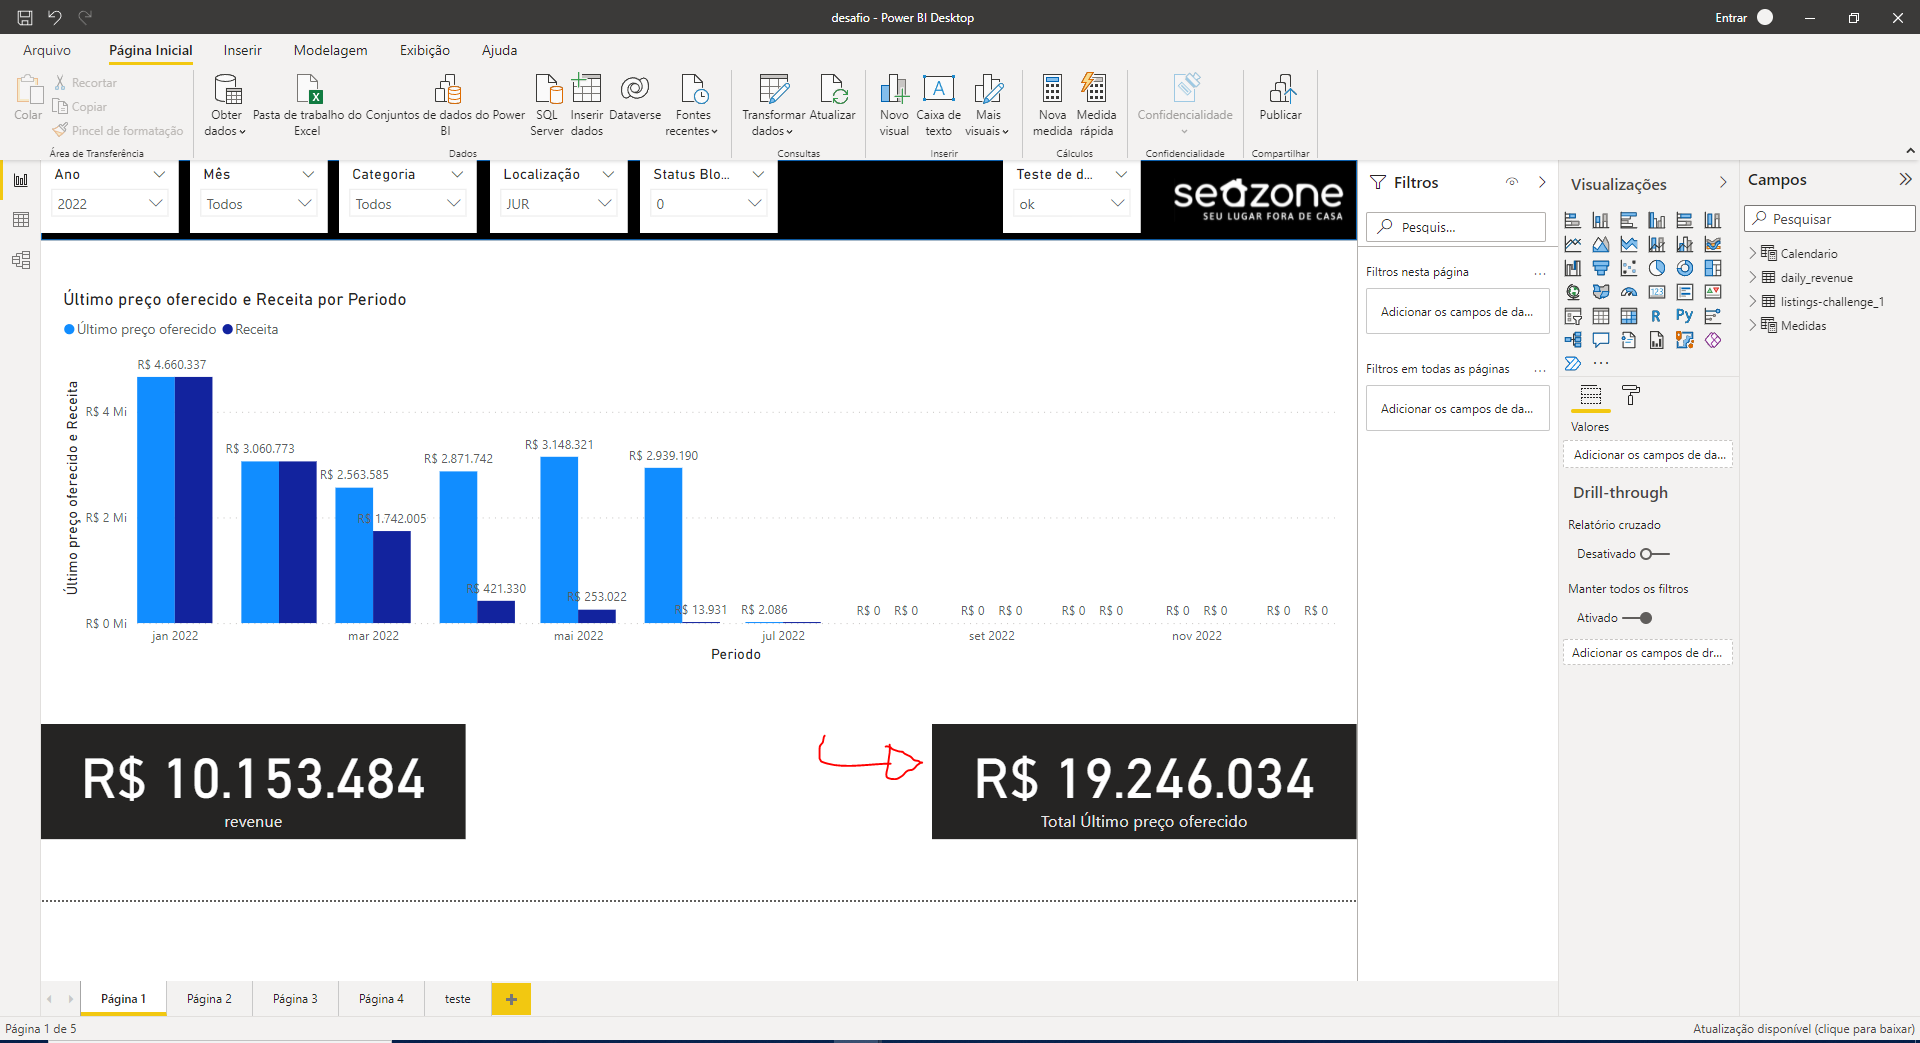

The dashboard page shown, as its layout file describes it:
{"tool":"powerbi","page":{"name":"Página 1","canvas":[1280,720],"ordinal":0},"visuals":[{"type":"clusteredColumnChart","fields":{"Y":["Sum(daily_revenue.last_offered_price)","Sum(daily_revenue.revenue)"],"Category":["daily_revenue.Periodo"]},"box":[16.5,125.5,1246.9,367.7],"z":0},{"type":"shape","box":[0,0,1280,77.8],"z":1000},{"type":"slicer","fields":{"Values":["Calendario.Date.Variation.Hierarquia de datas.Ano"]},"box":[0,0,134.2,71],"z":2000},{"type":"slicer","fields":{"Values":["listings-challenge_1.Categoria"]},"box":[289.8,0,134.2,71],"z":3000},{"type":"image","box":[1097.1,0,175.1,77.8],"z":4000},{"type":"slicer","fields":{"Values":["listings-challenge_1.Localização"]},"box":[436.7,0,134.2,71],"z":5000},{"type":"slicer","fields":{"Values":["daily_revenue.teste"]},"box":[935.7,0,134.2,71],"z":6000},{"type":"slicer","fields":{"Values":["Calendario.Date.Variation.Hierarquia de datas.Mês"]},"box":[144.9,0,134.2,71],"z":7000},{"type":"card","fields":{"Values":["Sum(daily_revenue.revenue)"]},"box":[0,548.6,413.4,111.9],"z":8000},{"type":"card","fields":{"Values":["Medidas.mUltimoprecooferecido"]},"box":[866.6,548.6,413.4,111.9],"z":9000},{"type":"slicer","fields":{"Values":["daily_revenue.blocked"]},"box":[582.6,0,134.2,71],"z":10000}]}

Visuals, with their boxes on the page's 1280x720 design canvas (x1, y1, x2, y2). These are canvas units, not pixel positions in the 1920x1043 screenshot, which may show the page scaled, cropped or inside an application window:
clusteredColumnChart - Sum(daily_revenue.last_offered_price) x Sum(daily_revenue.revenue): Rect(16, 126, 1263, 493)
shape: Rect(0, 0, 1280, 78)
slicer - Calendario.Date.Variation.Hierarquia de datas.Ano: Rect(0, 0, 134, 71)
slicer - listings-challenge_1.Categoria: Rect(290, 0, 424, 71)
image: Rect(1097, 0, 1272, 78)
slicer - listings-challenge_1.Localização: Rect(437, 0, 571, 71)
slicer - daily_revenue.teste: Rect(936, 0, 1070, 71)
slicer - Calendario.Date.Variation.Hierarquia de datas.Mês: Rect(145, 0, 279, 71)
card - Sum(daily_revenue.revenue): Rect(0, 549, 413, 660)
card - Medidas.mUltimoprecooferecido: Rect(867, 549, 1280, 660)
slicer - daily_revenue.blocked: Rect(583, 0, 717, 71)
